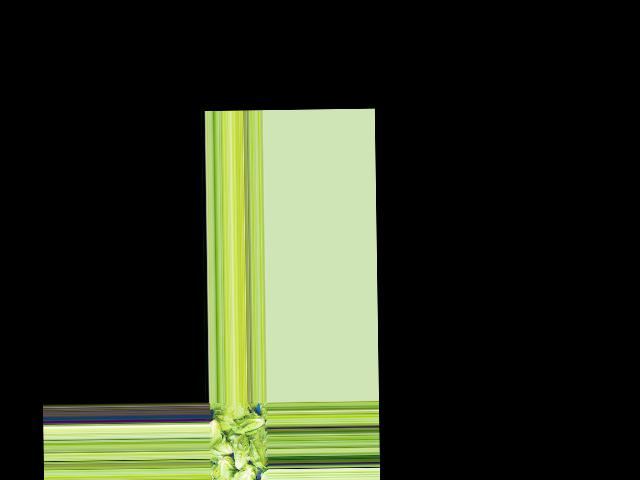lettuce: (209, 414, 223, 449)
